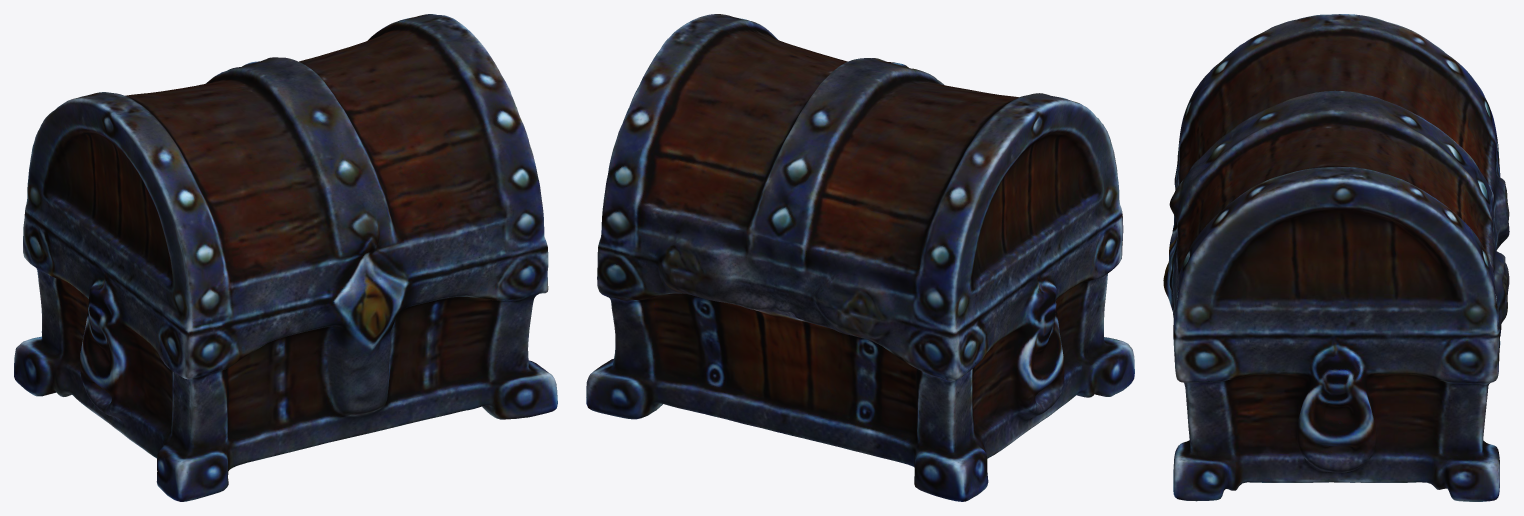
Rendered from treasure_chest-l2-CD1vOKgq.glb.
3 views of the same model, side by side, from view 1: azimuth 30°, elevation 25°; view 2: azimuth 150°, elevation 25°; view 3: azimuth 270°, elevation 25° (orthographic). The views are drawn at different scales.
Parts seen in each view (by area): view 1: geometry_0; view 2: geometry_0; view 3: geometry_0.
Part boxes in pixels (x1,y1,x2,y2): geometry_0: (14, 14, 557, 501); geometry_0: (586, 14, 1134, 501); geometry_0: (1163, 14, 1509, 501).
Bounding box in the file's own units: 0.4022 × 0.3301 × 0.3257.
Materials: 1 (1 with a texture image).
